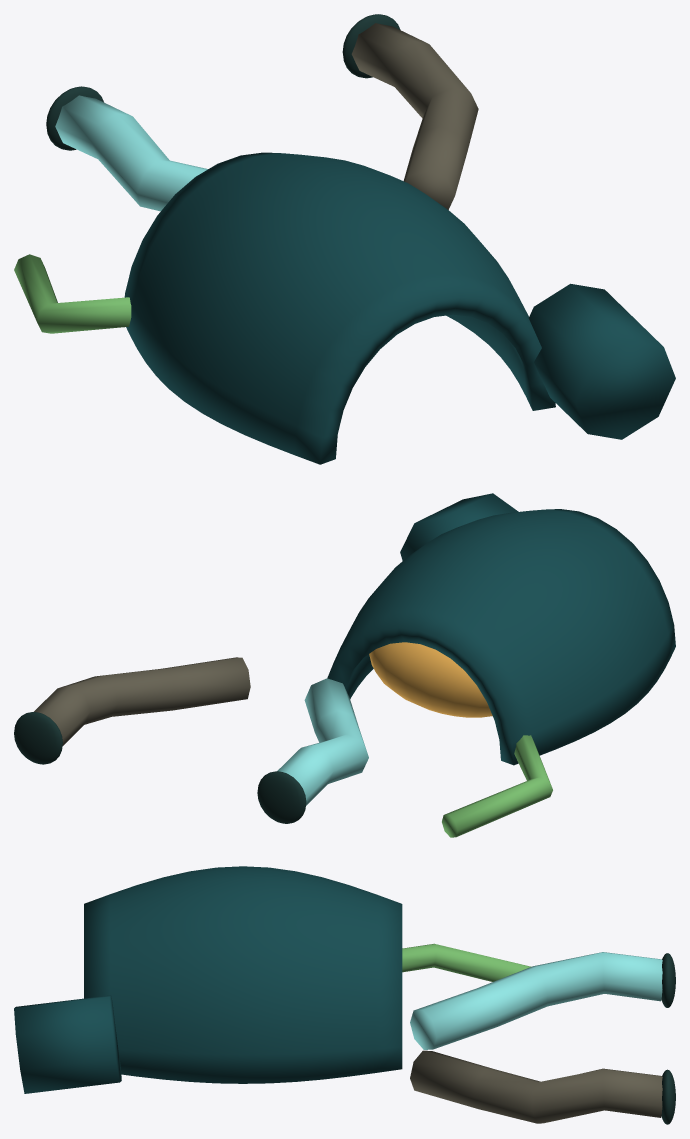
The model's file is 01_seed_shelter.obj.
3 views of the same model, one above another, from view 1: azimuth 30°, elevation 25°; view 2: azimuth 150°, elevation 25°; view 3: azimuth 270°, elevation 25° (orthographic). The views are drawn at different scales.
Parts seen in each view (by area): view 1: ancestral_seed_chamber, carrier_vestibule, contained_waste_outlet, clean-flow_inlet, exposed_anchoring_tissue, dormant_utility_socket.001, dormant_utility_socket; view 2: ancestral_seed_chamber, contained_waste_outlet, clean-flow_inlet, occupied_chamber, exposed_anchoring_tissue, carrier_vestibule, dormant_utility_socket, dormant_utility_socket.001; view 3: ancestral_seed_chamber, clean-flow_inlet, contained_waste_outlet, carrier_vestibule, exposed_anchoring_tissue, dormant_utility_socket.001, dormant_utility_socket.
Boxes of the visible parts, left/top/right/bottom form: ancestral_seed_chamber: left=124, top=152, right=555, bottom=464; carrier_vestibule: left=528, top=283, right=675, bottom=439; contained_waste_outlet: left=351, top=23, right=478, bottom=209; clean-flow_inlet: left=55, top=95, right=207, bottom=211; exposed_anchoring_tissue: left=14, top=254, right=131, bottom=333; dormant_utility_socket.001: left=342, top=14, right=400, bottom=78; dormant_utility_socket: left=46, top=86, right=103, bottom=150; ancestral_seed_chamber: left=327, top=509, right=675, bottom=765; contained_waste_outlet: left=34, top=657, right=250, bottom=745; clean-flow_inlet: left=277, top=678, right=368, bottom=805; occupied_chamber: left=369, top=642, right=492, bottom=717; exposed_anchoring_tissue: left=442, top=735, right=552, bottom=837; carrier_vestibule: left=400, top=493, right=518, bottom=560; dormant_utility_socket: left=257, top=771, right=306, bottom=823; dormant_utility_socket.001: left=14, top=712, right=62, bottom=764; ancestral_seed_chamber: left=84, top=866, right=402, bottom=1083; clean-flow_inlet: left=410, top=952, right=662, bottom=1049; contained_waste_outlet: left=410, top=1050, right=662, bottom=1123; carrier_vestibule: left=14, top=995, right=121, bottom=1093; exposed_anchoring_tissue: left=402, top=943, right=530, bottom=981; dormant_utility_socket.001: left=661, top=1069, right=675, bottom=1124; dormant_utility_socket: left=661, top=953, right=675, bottom=1007.
Size of the model in its own units: 2.24 by 0.8498 by 3.12.
